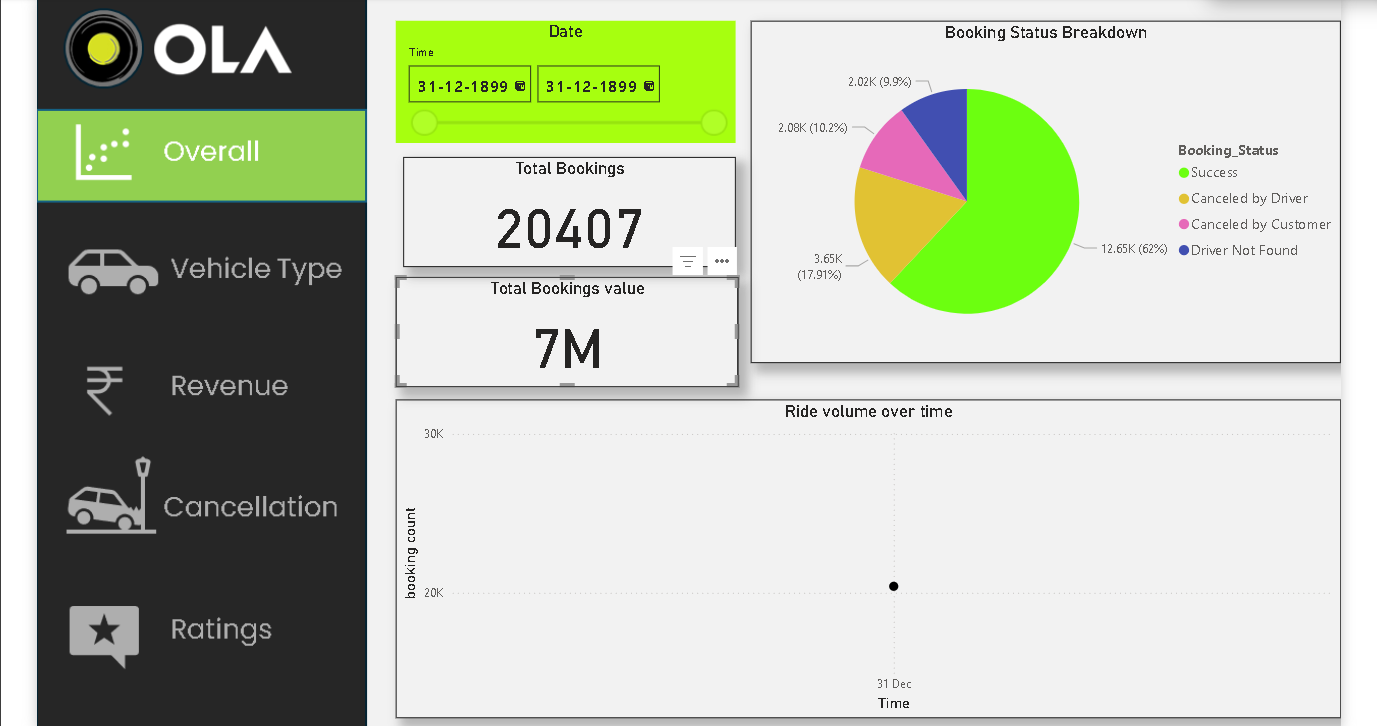

What the dashboard file says about the page in this screenshot:
{"tool":"powerbi","page":{"name":"Overall","canvas":[1280,720],"ordinal":0},"visuals":[{"type":"actionButton","box":[0,212.3,322.7,88.3],"z":0},{"type":"actionButton","box":[1.2,336.2,322.7,88.3],"z":1000},{"type":"actionButton","box":[0,447.9,322.7,88.3],"z":2000},{"type":"actionButton","box":[0,574.2,322.7,88.3],"z":3000},{"type":"lineChart","title":"Ride volume over time","fields":{"Y":["CountNonNull(July (2).Booking_ID)"],"Category":["July (2).Time"]},"box":[352.7,395.2,927.6,312.9],"z":4000},{"type":"pieChart","title":"Booking Status Breakdown","fields":{"Category":["July (2).Booking_Status"],"Y":["CountNonNull(July (2).Booking_Status)"]},"box":[700.6,23.3,579.1,336.2],"z":5000},{"type":"slicer","title":"Date","fields":{"Values":["July (2).Time"]},"box":[352.1,23.3,333.7,120.2],"z":6000},{"type":"card","title":"Total Bookings","fields":{"Values":["CountNonNull(July (2).Booking_ID)"]},"box":[359.5,157.1,326.4,108],"z":7000},{"type":"card","title":"Total Bookings value","fields":{"Values":["Sum(July (2).Booking_Value)"]},"box":[352.1,274.8,336.2,108],"z":8000}]}

Visuals, with their boxes on the page's 1280x720 design canvas (x1, y1, x2, y2). These are canvas units, not pixel positions in the 1377x726 screenshot, which may show the page scaled, cropped or inside an application window:
actionButton: <region>0, 212, 323, 301</region>
actionButton: <region>1, 336, 324, 424</region>
actionButton: <region>0, 448, 323, 536</region>
actionButton: <region>0, 574, 323, 662</region>
"Ride volume over time" lineChart: <region>353, 395, 1280, 708</region>
"Booking Status Breakdown" pieChart: <region>701, 23, 1280, 360</region>
"Date" slicer: <region>352, 23, 686, 144</region>
"Total Bookings" card: <region>360, 157, 686, 265</region>
"Total Bookings value" card: <region>352, 275, 688, 383</region>
